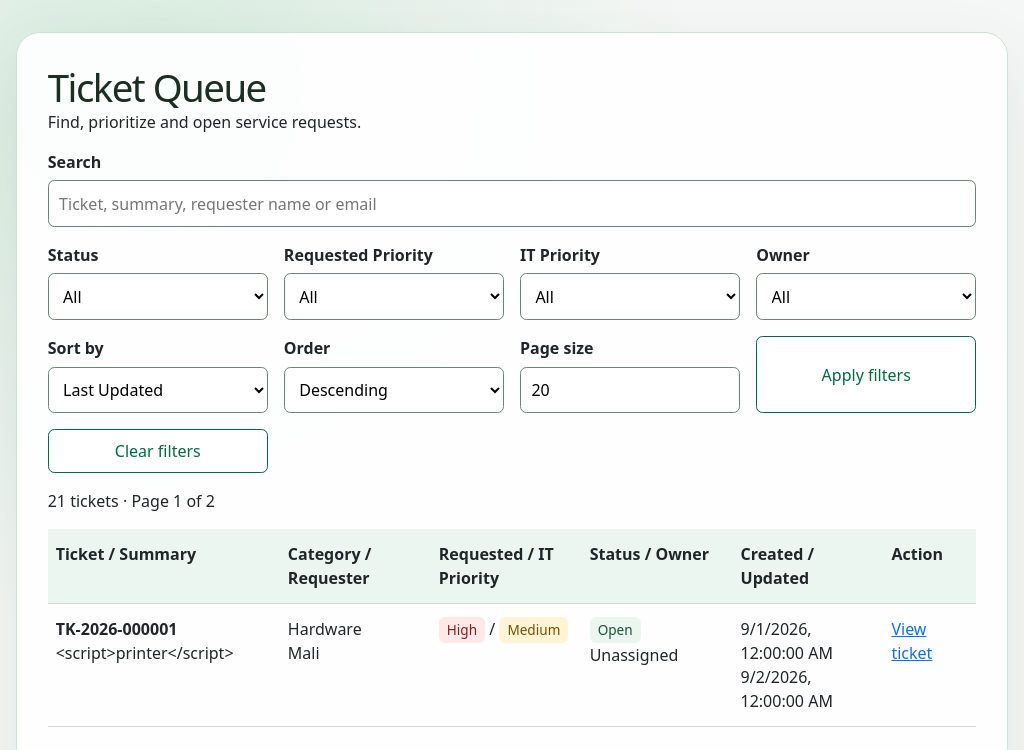
Staff Ticket Queue › opens read-only detail and returns to queue
The image size is (1024, 750).
Expected: the text "21 tickets · Page 1 of 2" is shown, top-left (48, 490), bottom-right (215, 512)
What coordinates should you click on to do the following:
click the link "View ticket"
I would click on:
 (909, 629)
Its box is top-left (891, 618), bottom-right (932, 664).
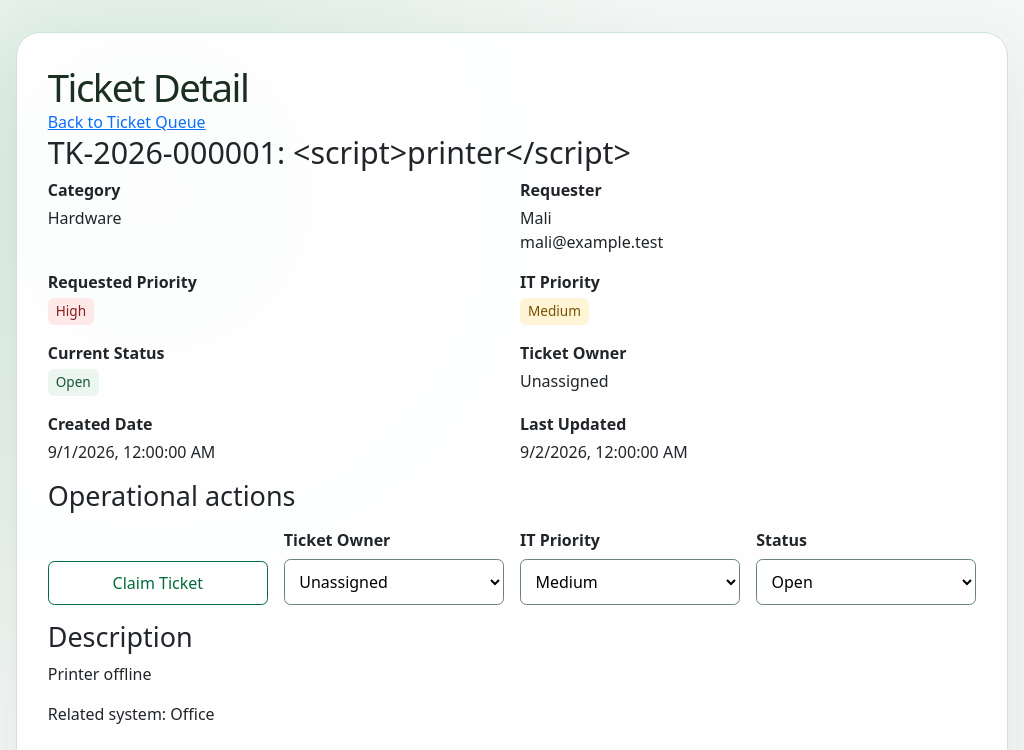
Now the text "Printer offline" is shown, box top-left (48, 663), bottom-right (151, 685)
What coordinates should you click on to do the following:
click the link "Back to Ticket Queue"
I would click on:
 (127, 122)
Its box is top-left (48, 111), bottom-right (206, 133).
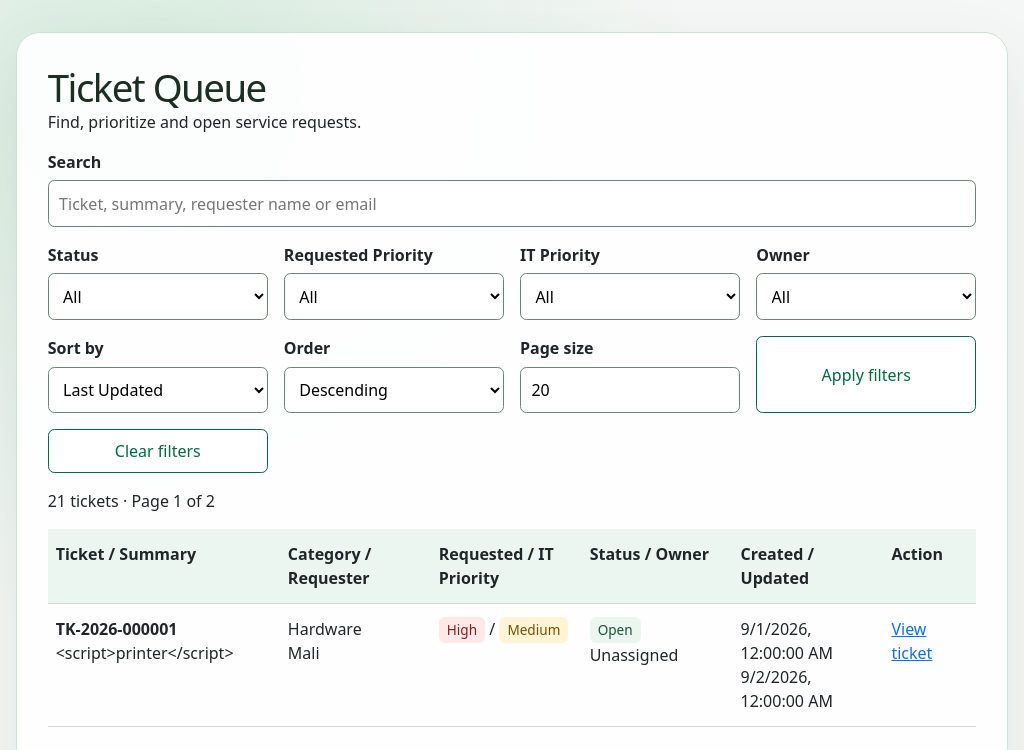
Now the text "21 tickets · Page 1 of 2" is shown, box top-left (48, 490), bottom-right (215, 512)
